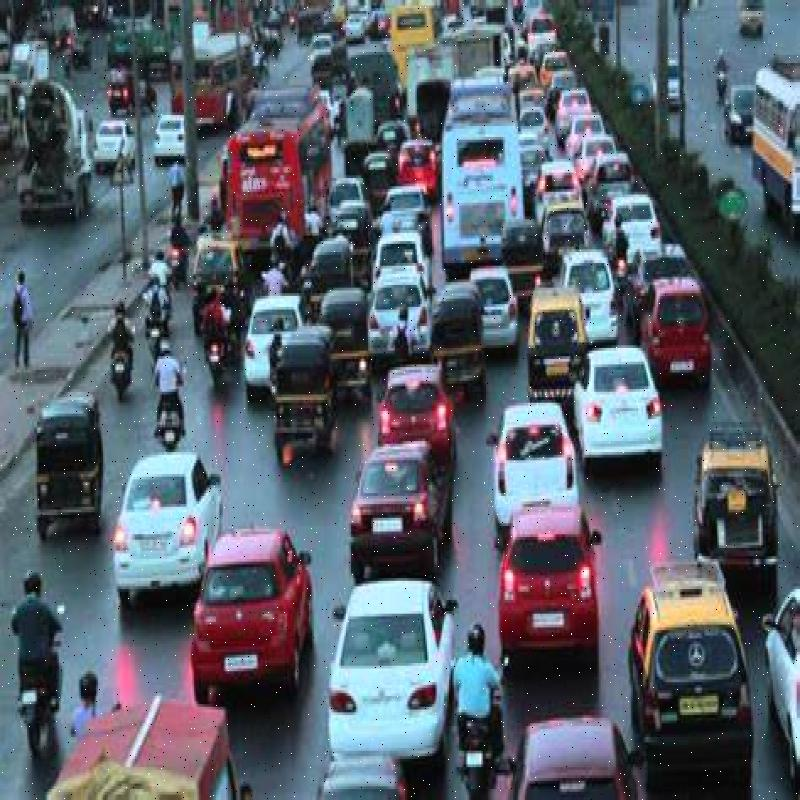auto: (633, 572, 780, 800), (686, 419, 782, 589), (30, 397, 118, 554), (263, 312, 337, 468), (525, 275, 587, 413)
car: (324, 569, 449, 780), (189, 519, 304, 690), (488, 510, 606, 664), (119, 451, 234, 592), (481, 394, 582, 524)
